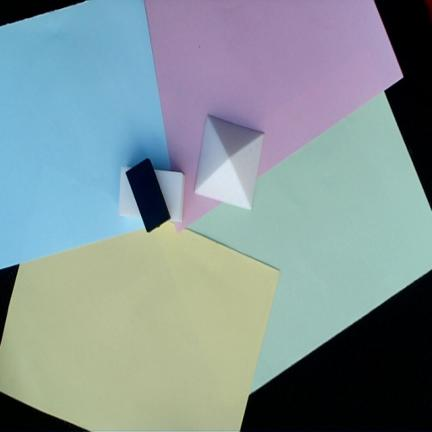Paralelepipedo: (119, 165, 185, 223), (125, 158, 171, 233)
Piramide: (193, 113, 265, 211)
